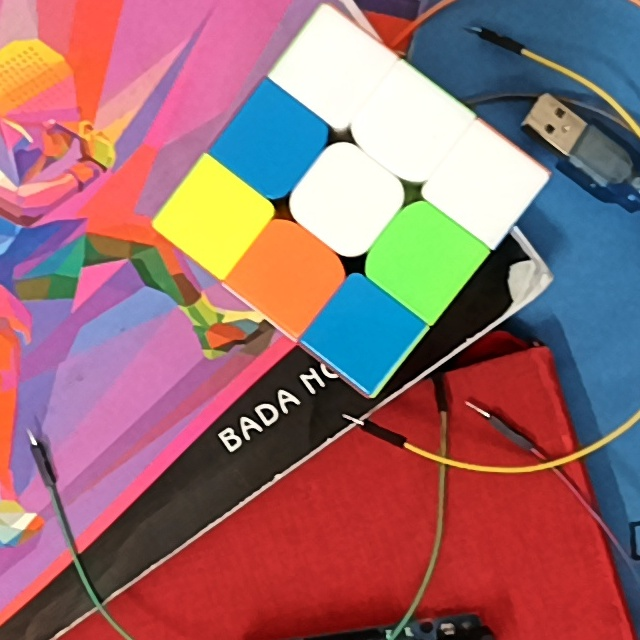tile: (391, 227, 456, 289), (451, 155, 518, 215), (255, 243, 319, 305), (300, 40, 362, 102), (378, 96, 444, 154), (242, 115, 305, 173), (184, 187, 247, 245), (331, 304, 397, 359), (315, 169, 374, 230)
